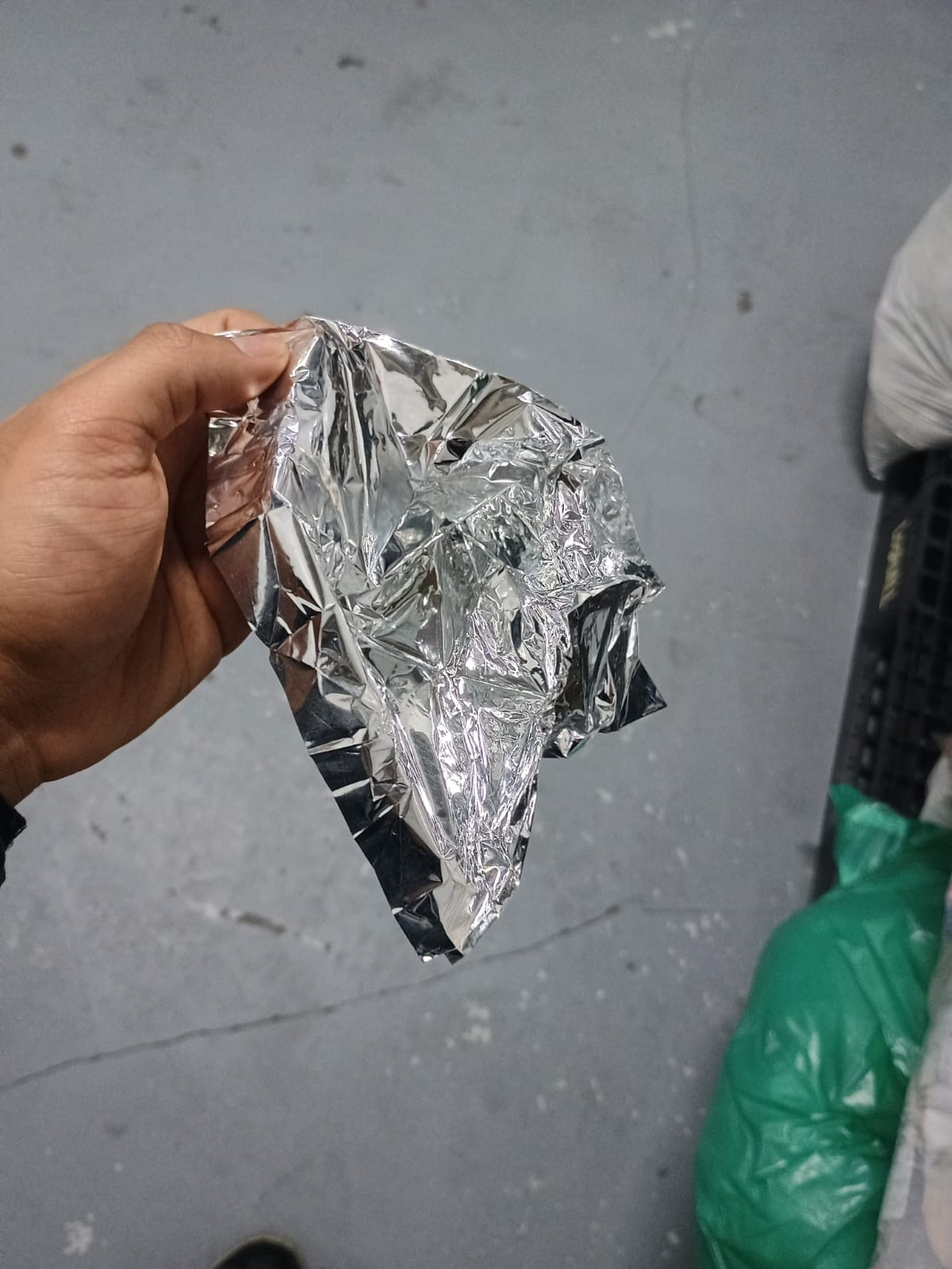Ordinario: (197, 315, 669, 965)
